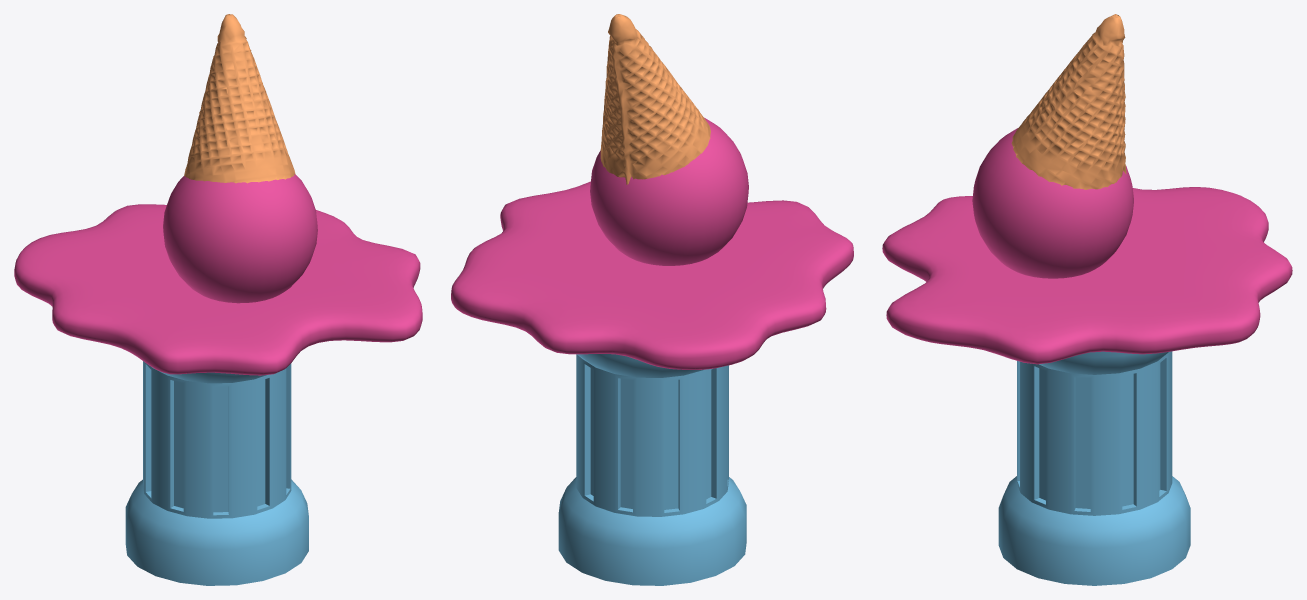
Rendered from dondurma.fbx.
3 renders of one model, left to right at view 1: azimuth 30°, elevation 25°; view 2: azimuth 150°, elevation 25°; view 3: azimuth 270°, elevation 25°, orthographic. The views are drawn at different scales.
Parts seen in each view (by area): view 1: dondurma, Cylinder.011, Sphere.001, cone; view 2: dondurma, Cylinder.011, Sphere.001, cone; view 3: dondurma, Cylinder.011, Sphere.001, cone.
Part boxes in pixels (x1=…): dondurma: x1=14, y1=204, x2=422, y2=375; Cylinder.011: x1=125, y1=361, x2=308, y2=585; Sphere.001: x1=163, y1=174, x2=317, y2=303; cone: x1=184, y1=14, x2=295, y2=183; dondurma: x1=451, y1=181, x2=853, y2=369; Cylinder.011: x1=558, y1=354, x2=746, y2=585; Sphere.001: x1=590, y1=117, x2=748, y2=265; cone: x1=600, y1=14, x2=710, y2=184; dondurma: x1=882, y1=187, x2=1292, y2=364; Cylinder.011: x1=998, y1=351, x2=1190, y2=585; Sphere.001: x1=972, y1=128, x2=1133, y2=278; cone: x1=1011, y1=14, x2=1126, y2=189.
Bounding box in the file's own units: 176 × 259 × 178.
